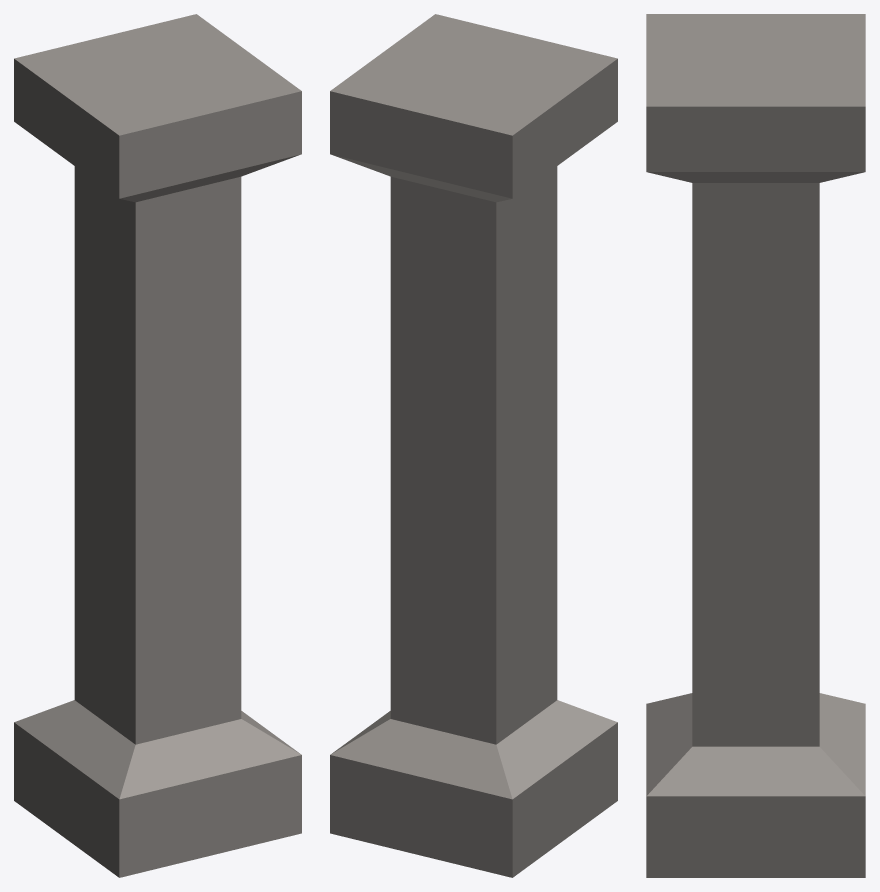
File: SD_Env_Pillar_Stone_03.fbx
The picture shows the model from 3 angles, left to right: view 1: azimuth 30°, elevation 25°; view 2: azimuth 150°, elevation 25°; view 3: azimuth 270°, elevation 25°; orthographic projection. The views are drawn at different scales.
Parts seen in each view (by area): view 1: SD_Env_Pillar_Stone_03; view 2: SD_Env_Pillar_Stone_03; view 3: SD_Env_Pillar_Stone_03.
Part boxes in pixels (x1,y1,x2,y2): SD_Env_Pillar_Stone_03: (14,14,301,877); SD_Env_Pillar_Stone_03: (330,14,617,877); SD_Env_Pillar_Stone_03: (646,14,865,877).
Size of the model in its own units: 1.29 by 5.01 by 1.29.
